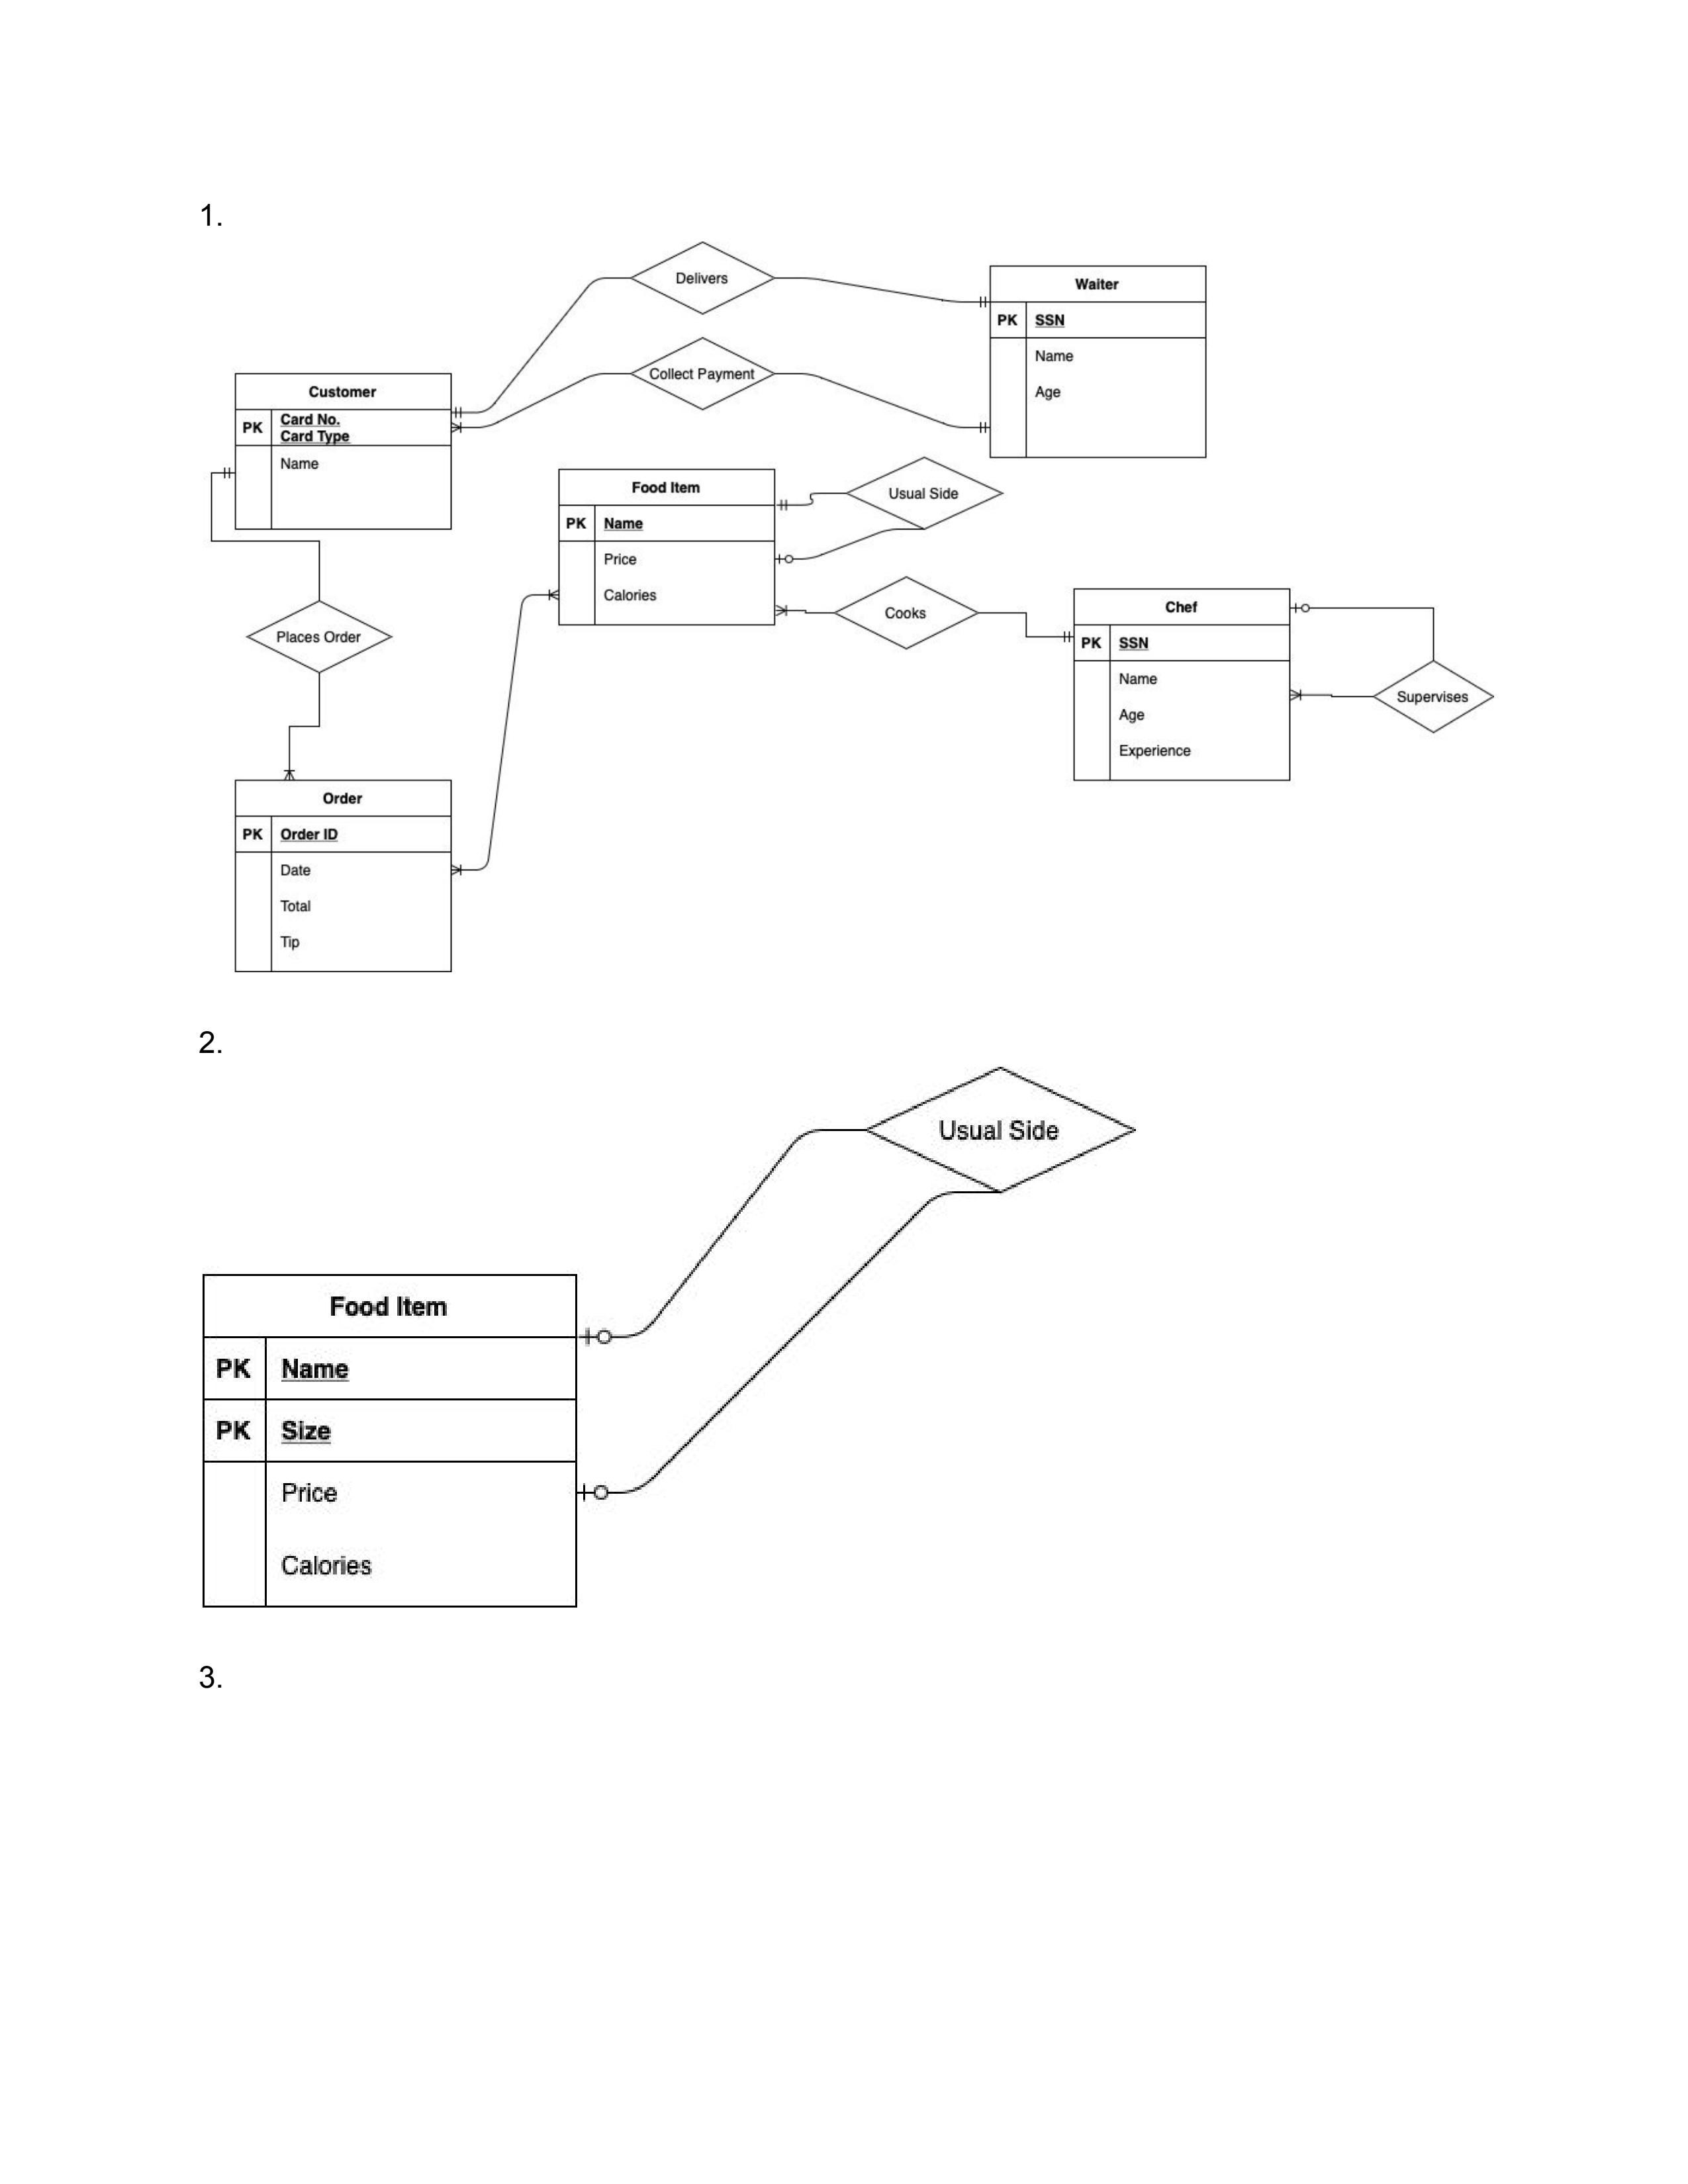Entity: (195, 1264, 583, 1618), (1071, 583, 1300, 787), (232, 775, 457, 980), (984, 266, 1209, 468), (227, 369, 459, 541), (553, 463, 782, 635)
Relationship: (867, 1062, 1138, 1191), (846, 452, 1004, 534), (631, 238, 777, 317), (833, 574, 981, 651), (246, 601, 395, 675), (633, 335, 773, 408), (1378, 658, 1498, 739)
